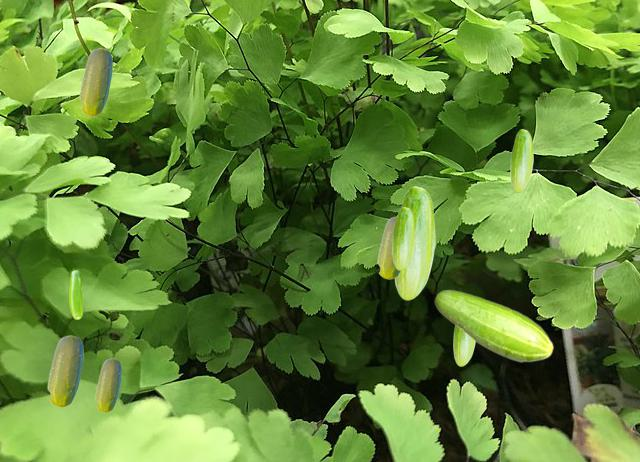cucumber: (434, 289, 553, 362), (394, 186, 434, 299), (47, 335, 82, 406), (79, 48, 111, 115), (377, 216, 401, 278), (510, 129, 532, 191), (392, 207, 414, 269), (95, 358, 120, 411), (453, 325, 475, 365), (69, 270, 81, 318)
